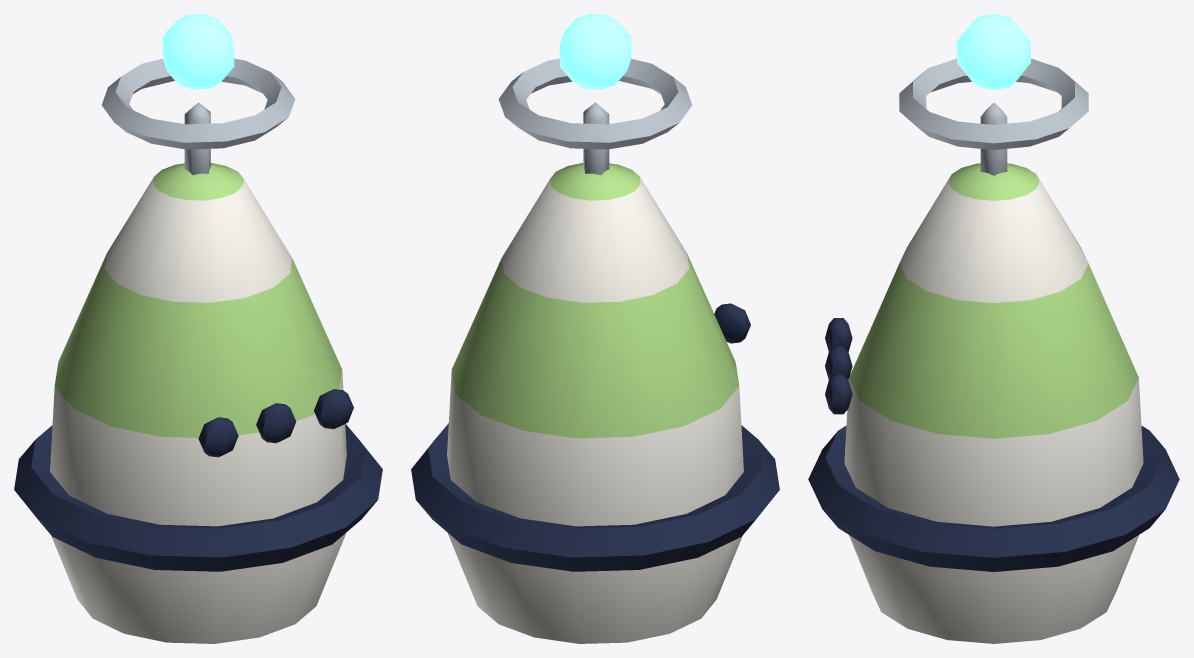
Rendered from Tutorial_LessonBuoy_Marker3.fbx.
3 views of the same model, side by side, from view 1: azimuth 30°, elevation 25°; view 2: azimuth 150°, elevation 25°; view 3: azimuth 270°, elevation 25° (orthographic).
Visible parts, largest first — view 1: Tutorial_LessonBuoy_Marker3; view 2: Tutorial_LessonBuoy_Marker3; view 3: Tutorial_LessonBuoy_Marker3.
Boxes of the visible parts, box(x1,y1,x2,y2) form: Tutorial_LessonBuoy_Marker3: box(14, 14, 382, 643); Tutorial_LessonBuoy_Marker3: box(411, 14, 779, 643); Tutorial_LessonBuoy_Marker3: box(808, 14, 1179, 643).
Size of the model in its own units: 1.34 by 2.29 by 1.34.
